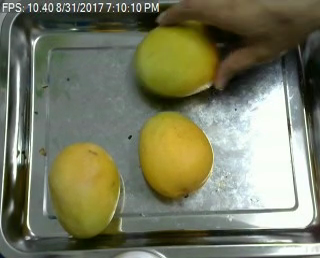Mango: (45, 140, 130, 241), (136, 108, 220, 203), (129, 21, 224, 99)
